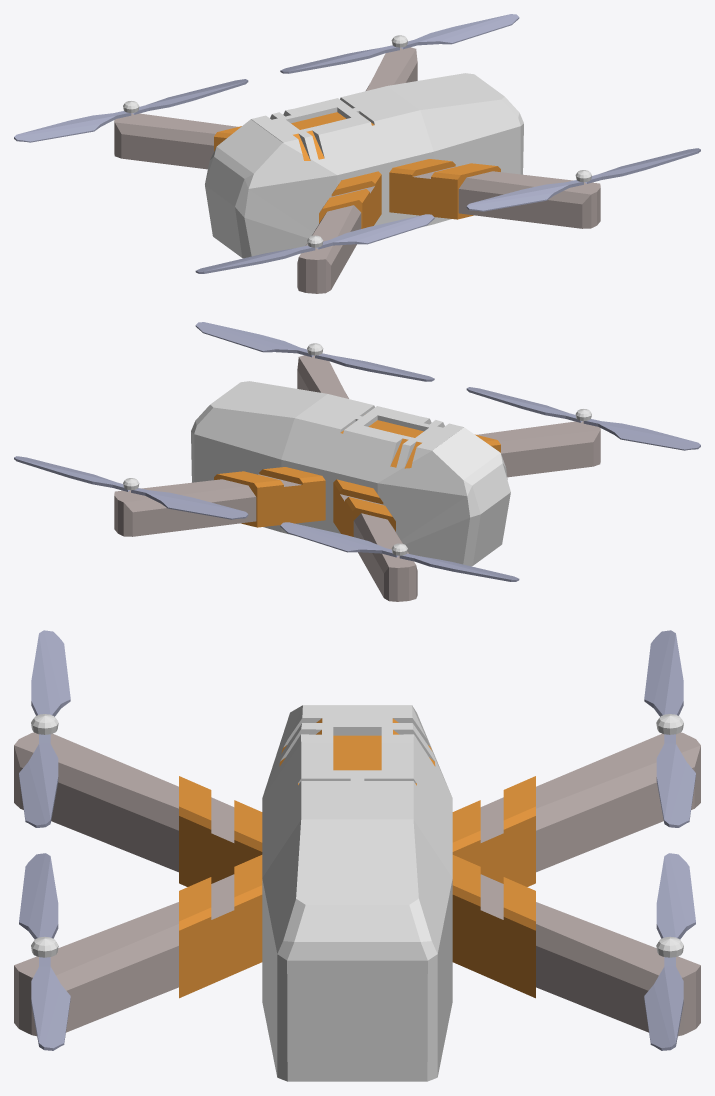
The model's file is Quad.fbx.
3 views of the same model, one above another, from view 1: azimuth 30°, elevation 25°; view 2: azimuth 150°, elevation 25°; view 3: azimuth 270°, elevation 25° (orthographic). The views are drawn at different scales.
Parts seen in each view (by area): view 1: Quad_body, Quad_axis, Quad_axis_handler, Blade.003, Blade.001, Blade.002, Blade, Circle.001; view 2: Quad_body, Quad_axis, Quad_axis_handler, Blade.002, Blade, Blade.003, Blade.001, Circle.001; view 3: Quad_body, Quad_axis, Quad_axis_handler, Blade.002, Blade.003, Blade.001, Blade, Circle.001.
Boxes of the visible parts, x1,y1,x2,y2 form: Quad_body: (205,73,523,258); Quad_axis: (114,47,600,293); Quad_axis_handler: (214,126,500,228); Blade.003: (280,14,519,73); Blade.001: (195,214,434,273); Blade.002: (466,148,700,211); Blade: (14,79,248,142); Circle.001: (123,35,591,247); Quad_body: (191,381,510,566); Quad_axis: (114,355,600,601); Quad_axis_handler: (214,434,500,536); Blade.002: (195,322,434,381); Blade: (280,522,519,581); Blade.003: (14,456,248,519); Blade.001: (466,387,700,450); Circle.001: (123,343,591,555); Quad_body: (262,705,452,1081); Quad_axis: (14,732,700,1036); Quad_axis_handler: (179,776,535,998); Blade.002: (19,853,70,1050); Blade.003: (644,853,695,1050); Blade.001: (19,630,70,827); Blade: (644,630,695,827); Circle.001: (31,714,683,957).
Bounding box in the file's own units: 348 × 70.67 × 242.
